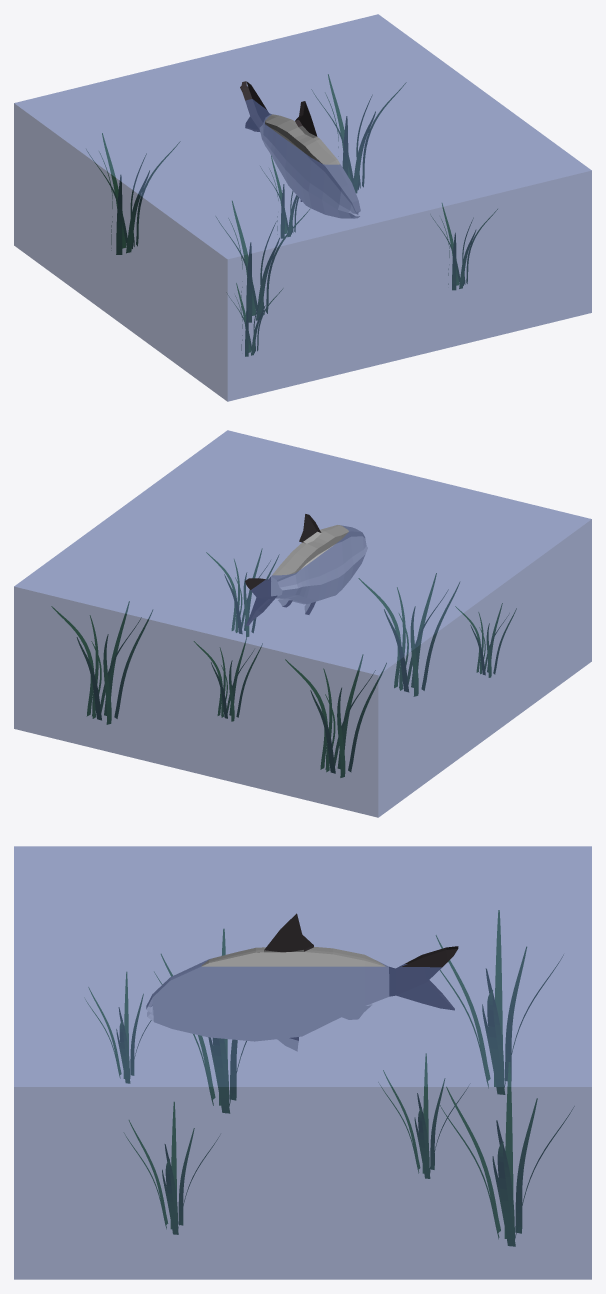
The model's file is sakana.gltf.
The picture shows the model from 3 angles, top to bottom: view 1: azimuth 30°, elevation 25°; view 2: azimuth 150°, elevation 25°; view 3: azimuth 270°, elevation 25°; orthographic projection. The views are drawn at different scales.
Visible parts, largest first — view 1: 立方体, 平面.001, 平面.006, 平面.011, 平面.010, 平面.007, 平面.002, 平面.009, 平面.008, 平面.012; view 2: 立方体, 平面.001, 平面.007, 平面.011, 平面.010, 平面.006, 平面.008, 平面.009, 平面.012, 平面.002; view 3: 立方体, 平面.001, 平面.007, 平面.011, 平面.002, 平面.010, 平面.009, 平面.008, 平面.012, 平面.006, 平面.003.
Boxes of the visible parts, x1=… form: 立方体: x1=14, y1=14, x2=591, y2=401; 平面.001: x1=260, y1=120, x2=359, y2=218; 平面.006: x1=265, y1=114, x2=360, y2=211; 平面.011: x1=87, y1=133, x2=179, y2=254; 平面.010: x1=216, y1=201, x2=309, y2=322; 平面.007: x1=314, y1=74, x2=405, y2=193; 平面.002: x1=240, y1=81, x2=270, y2=131; 平面.009: x1=433, y1=203, x2=497, y2=289; 平面.008: x1=267, y1=156, x2=298, y2=238; 平面.012: x1=233, y1=283, x2=282, y2=356; 立方体: x1=14, y1=430, x2=591, y2=817; 平面.001: x1=271, y1=531, x2=367, y2=613; 平面.007: x1=51, y1=601, x2=152, y2=724; 平面.011: x1=285, y1=655, x2=386, y2=777; 平面.010: x1=358, y1=573, x2=459, y2=696; 平面.006: x1=271, y1=525, x2=364, y2=581; 平面.008: x1=194, y1=638, x2=262, y2=721; 平面.009: x1=206, y1=550, x2=278, y2=637; 平面.012: x1=455, y1=603, x2=516, y2=677; 平面.002: x1=245, y1=577, x2=276, y2=625; 立方体: x1=14, y1=846, x2=591, y2=1279; 平面.001: x1=146, y1=952, x2=388, y2=1051; 平面.007: x1=440, y1=1062, x2=572, y2=1246; 平面.011: x1=436, y1=910, x2=561, y2=1094; 平面.002: x1=389, y1=946, x2=458, y2=1010; 平面.010: x1=154, y1=929, x2=246, y2=1113; 平面.009: x1=126, y1=1102, x2=217, y2=1234; 平面.008: x1=380, y1=1053, x2=466, y2=1178; 平面.012: x1=86, y1=972, x2=151, y2=1083; 平面.006: x1=146, y1=946, x2=388, y2=1008; 平面.003: x1=264, y1=913, x2=313, y2=952.
Bounding box in the file's own units: 8.86 × 4.18 × 8.99.
